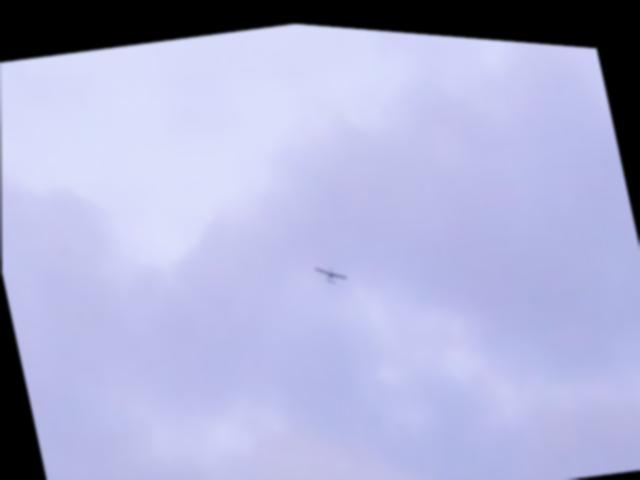uav: (312, 252, 350, 285)
